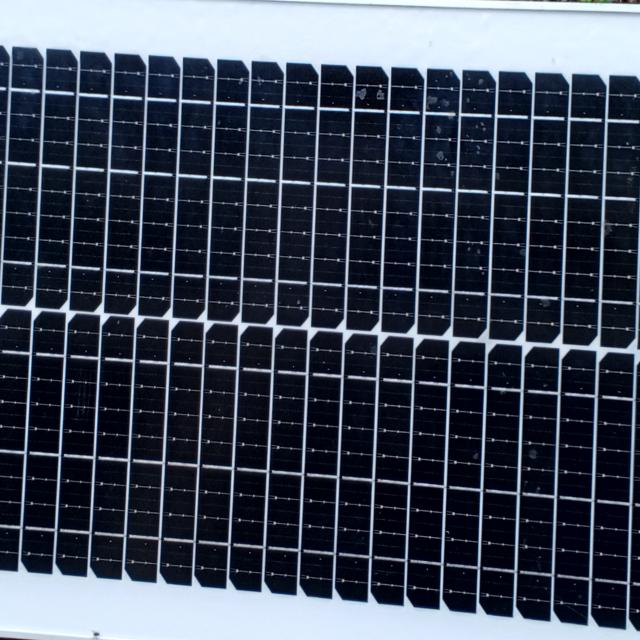Clean: (2, 8, 640, 635)
